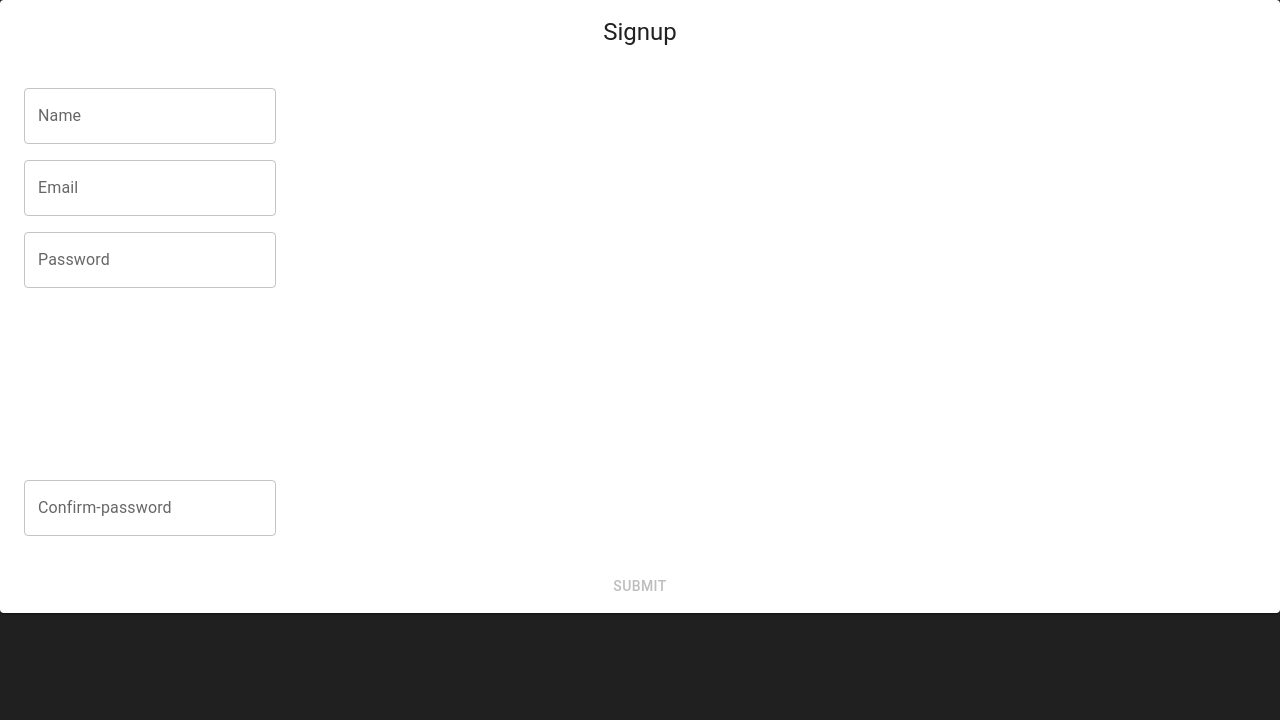
Scenario: should be able to type in password-confirmation field
Click the password field labelled "Confirm-password" at (150, 508), box [24,480,276,536]
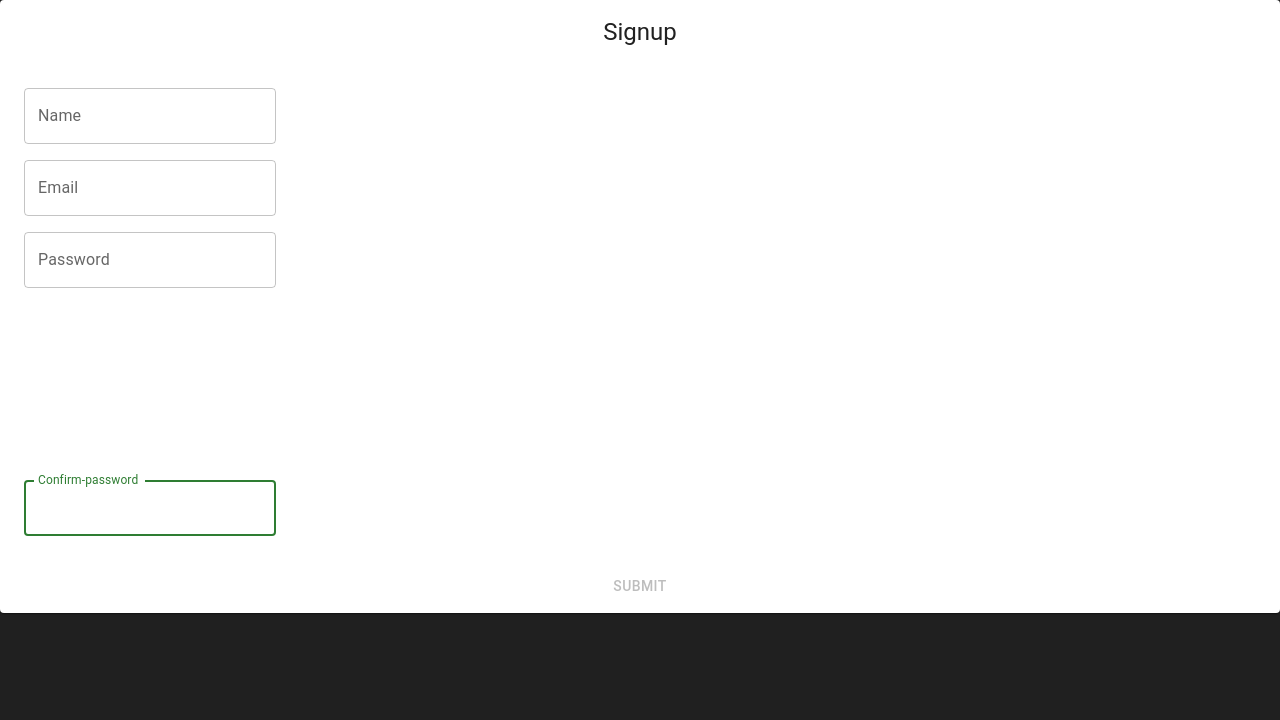
Type keys "Password1!"
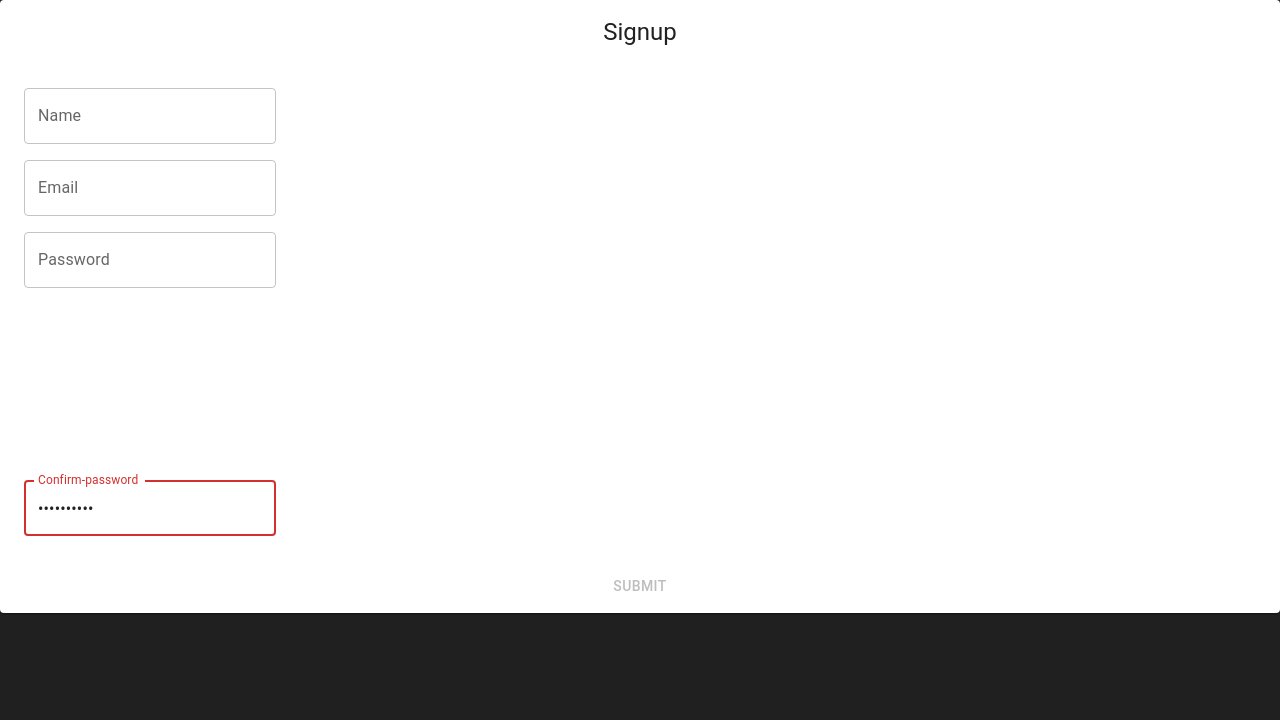
Now the password field labelled "Confirm-password" holds "Password1!", box [24,480,276,536]
